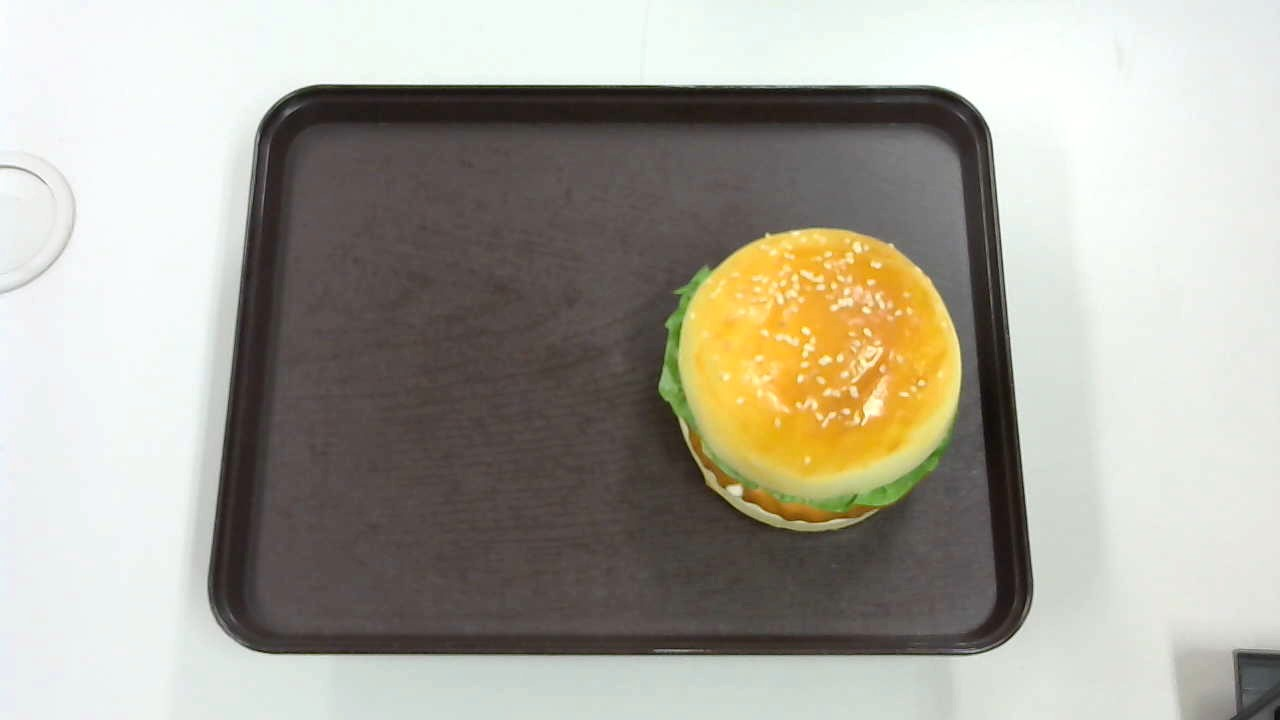hamburger: (658, 226, 963, 535)
